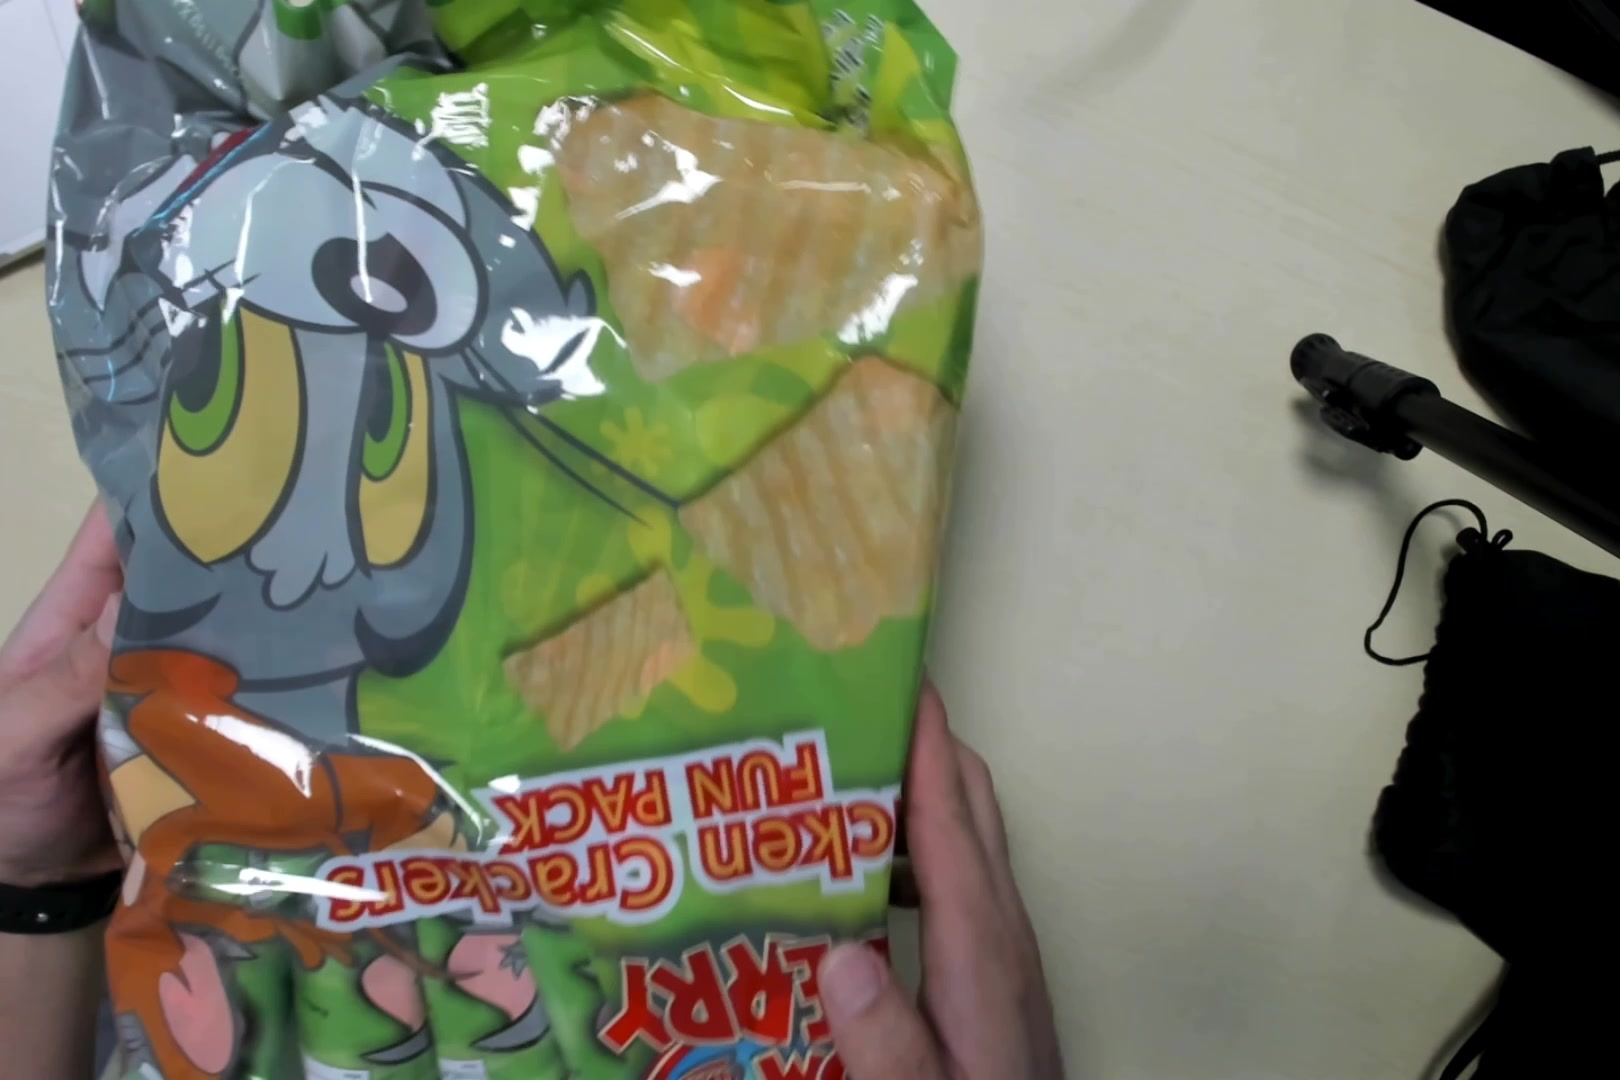PotatoChipsKeropok_200-299g_Halal_NonHealthy: (74, 5, 891, 1080)
